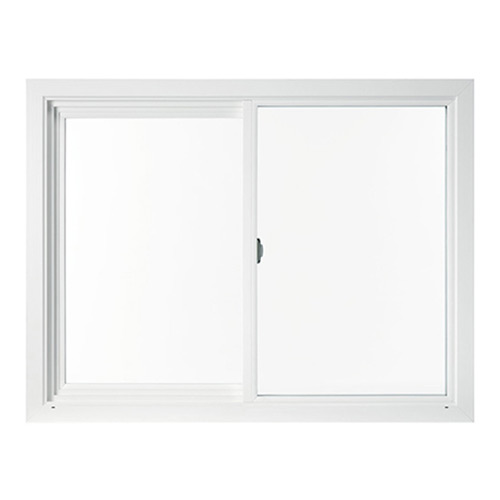Window: (24, 75, 475, 424)
